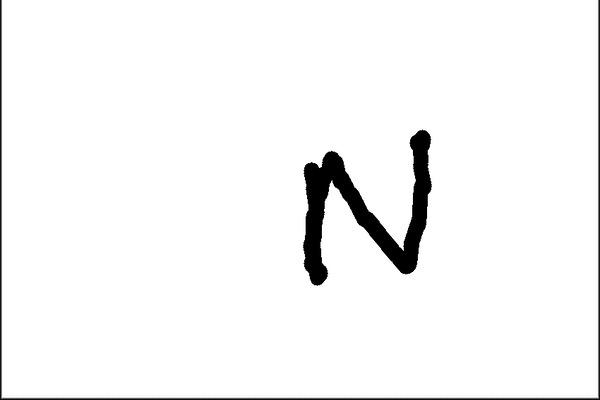N: (297, 126, 437, 287)
